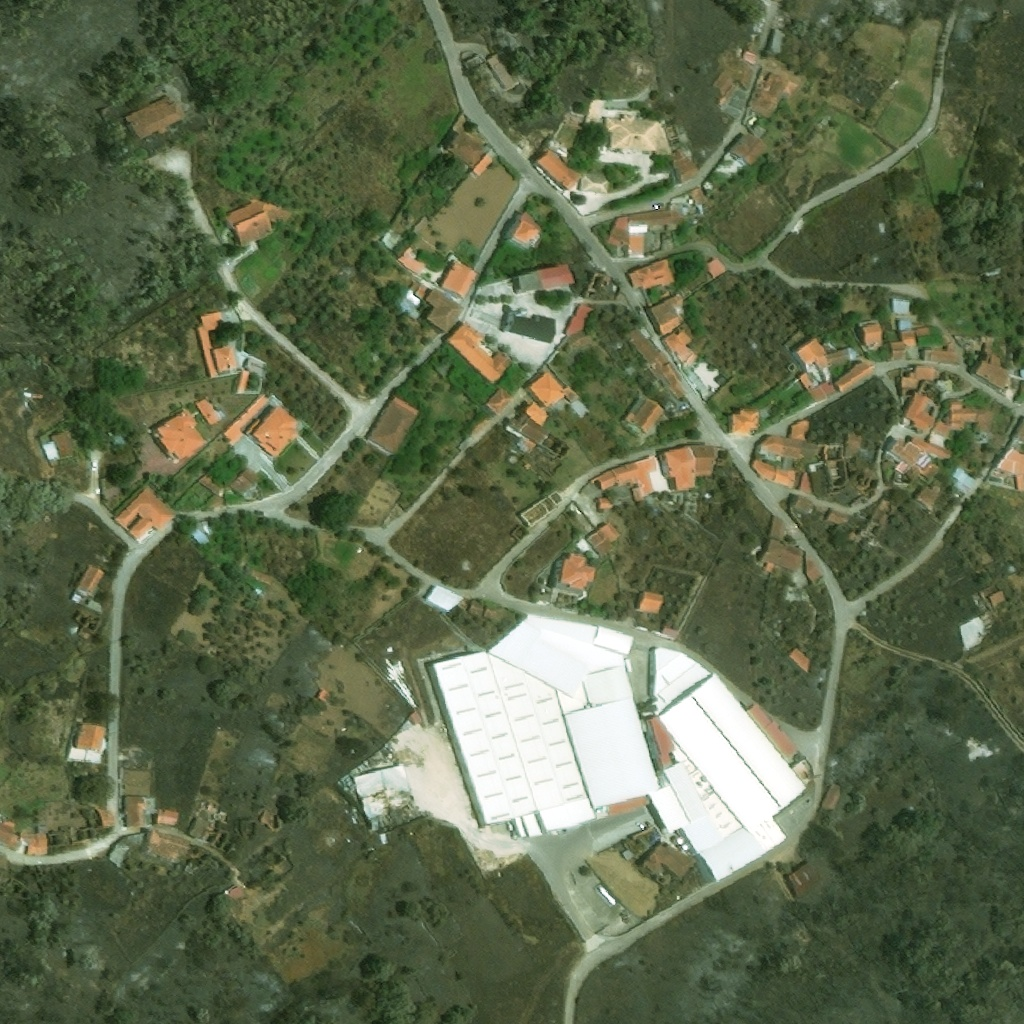0 no-damage: (425, 612, 820, 885), (623, 324, 686, 401), (445, 320, 514, 385), (606, 206, 684, 260), (113, 484, 176, 546), (659, 443, 733, 493), (590, 455, 664, 504), (195, 310, 244, 380), (367, 396, 419, 456), (753, 419, 820, 462), (155, 407, 209, 460), (221, 392, 272, 447), (251, 402, 300, 459), (747, 701, 796, 758), (495, 303, 558, 346), (604, 113, 670, 154), (123, 95, 182, 140), (443, 130, 494, 178), (225, 199, 274, 248), (638, 838, 697, 877), (511, 261, 575, 295), (532, 149, 581, 191), (793, 338, 855, 371), (949, 401, 1013, 432), (65, 719, 108, 764), (553, 553, 596, 598), (466, 51, 516, 89), (425, 288, 465, 334), (888, 317, 930, 360), (645, 292, 683, 339), (503, 203, 542, 248), (759, 538, 805, 575), (528, 369, 571, 408), (627, 258, 676, 292), (785, 859, 824, 899), (901, 390, 937, 433), (832, 359, 876, 393), (974, 352, 1012, 391), (662, 328, 697, 369), (439, 262, 477, 299), (584, 521, 621, 559), (40, 428, 79, 463), (731, 131, 769, 166), (515, 494, 554, 528), (751, 458, 795, 488), (197, 470, 228, 511), (631, 398, 664, 435), (226, 462, 260, 495), (563, 303, 597, 335), (73, 563, 104, 598), (426, 585, 465, 612), (920, 341, 960, 367), (517, 417, 549, 447), (691, 362, 720, 395), (485, 387, 516, 417), (994, 445, 1023, 477), (728, 407, 760, 436), (397, 247, 426, 275), (125, 796, 150, 827), (805, 551, 827, 586), (575, 173, 610, 195), (634, 591, 666, 615), (915, 484, 945, 509), (188, 519, 215, 546), (524, 400, 550, 427), (196, 397, 221, 425), (950, 464, 979, 488), (766, 25, 788, 55), (244, 354, 270, 378), (672, 158, 699, 181), (787, 647, 809, 675), (810, 381, 836, 404), (824, 507, 851, 529), (0, 820, 20, 849), (859, 323, 882, 348), (767, 514, 787, 542), (703, 259, 726, 282), (23, 835, 48, 856), (586, 99, 605, 126), (379, 228, 401, 251), (792, 495, 816, 514), (669, 145, 693, 164), (687, 185, 706, 207), (888, 300, 912, 317), (931, 420, 951, 440), (156, 809, 179, 826), (466, 598, 487, 616), (798, 470, 813, 495), (412, 216, 430, 235), (798, 372, 815, 392), (739, 48, 758, 65), (235, 371, 250, 392), (483, 606, 504, 621), (316, 687, 335, 703), (597, 497, 614, 509), (983, 335, 994, 352)
1 minor-damage: (746, 71, 788, 119), (143, 828, 188, 862), (106, 833, 145, 869), (820, 787, 841, 812)
2 major-damage: (361, 774, 429, 837), (882, 434, 954, 486), (897, 364, 937, 397), (95, 804, 116, 827), (880, 433, 898, 451)
3 destroyed: (807, 443, 852, 493), (858, 499, 898, 541), (971, 582, 1006, 629), (186, 811, 229, 848), (220, 877, 255, 907), (711, 72, 738, 108), (958, 617, 988, 648), (582, 269, 611, 301), (259, 805, 288, 834), (854, 466, 882, 496), (184, 840, 215, 864), (205, 797, 229, 823), (738, 65, 758, 91), (76, 611, 99, 631), (844, 434, 864, 457), (755, 11, 770, 34), (20, 381, 38, 398), (664, 125, 681, 141), (789, 219, 804, 236), (87, 600, 103, 613), (72, 593, 81, 603)
4 un-classified: (1011, 419, 1023, 445), (890, 60, 901, 72)
